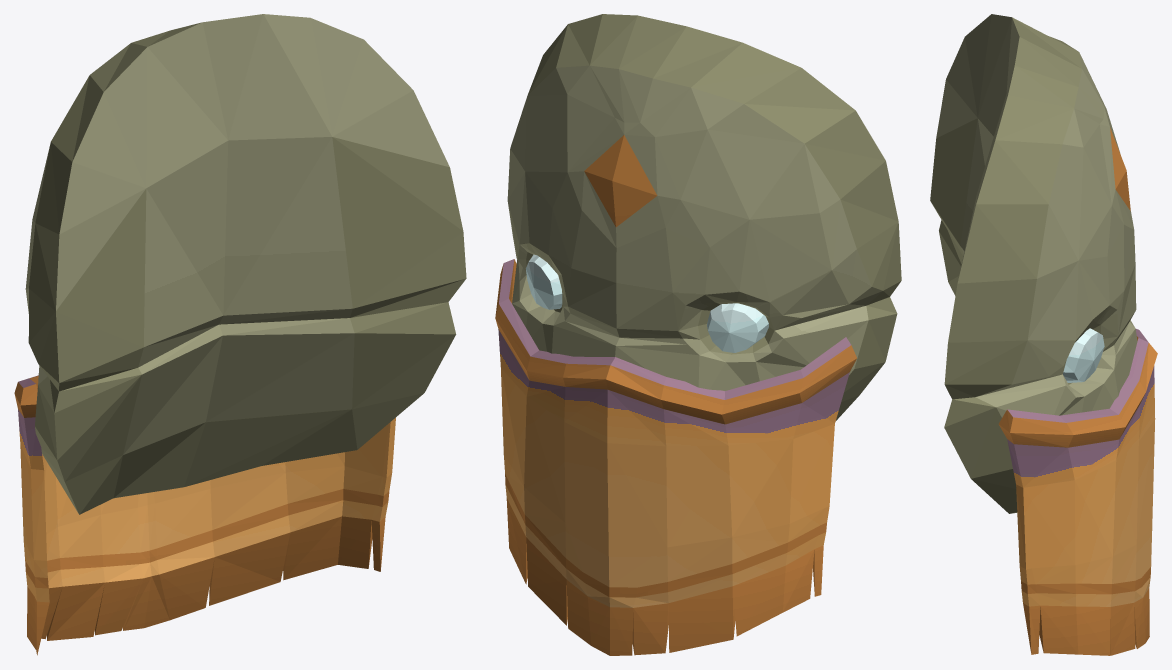
File: CharSkyKid_Mask_AP06VeilB.glb
3 renders of one model, left to right at view 1: azimuth 30°, elevation 25°; view 2: azimuth 150°, elevation 25°; view 3: azimuth 270°, elevation 25°, orthographic. The views are drawn at different scales.
Visible parts, largest first — view 1: CharSkyKid_Mask_AP06VeilB; view 2: CharSkyKid_Mask_AP06VeilB; view 3: CharSkyKid_Mask_AP06VeilB.
Part boxes in pixels (box(x1,y1,x2,y2)): CharSkyKid_Mask_AP06VeilB: box(14, 14, 466, 655); CharSkyKid_Mask_AP06VeilB: box(495, 14, 901, 655); CharSkyKid_Mask_AP06VeilB: box(930, 14, 1157, 655).
Bounding box in the file's own units: 2.15 × 3.28 × 1.14.
Materials: 1 (1 with a texture image).
